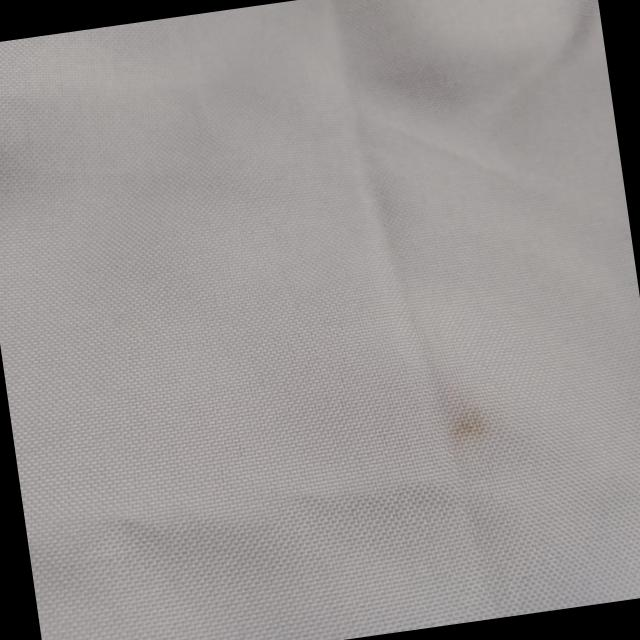stain: (432, 397, 504, 459)
